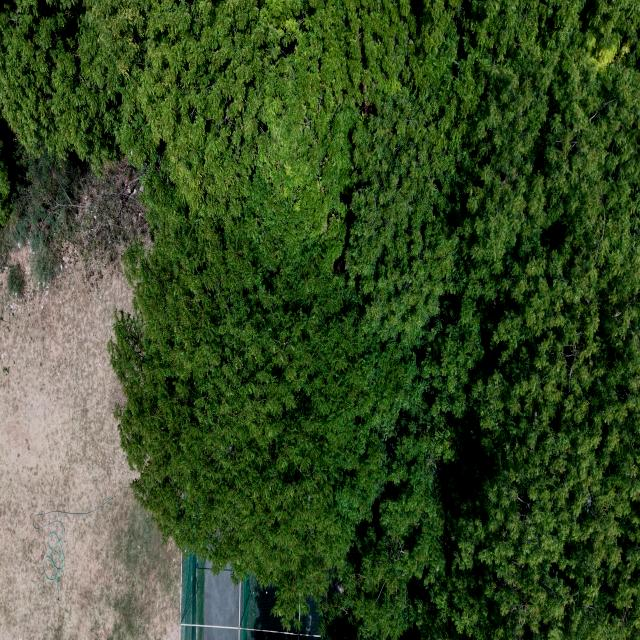DRY_AREA: (0, 249, 179, 639)
VEGETATION_TREE: (0, 0, 639, 639), (326, 2, 639, 639), (0, 125, 146, 287), (0, 152, 82, 286), (0, 138, 10, 224), (6, 264, 24, 298)
